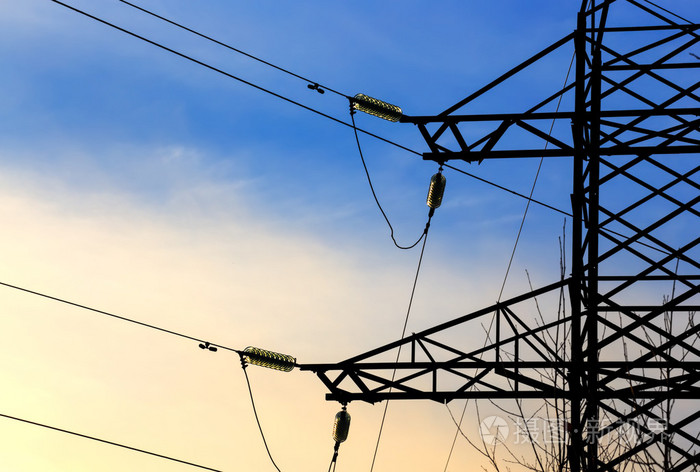insulator: (351, 89, 403, 123), (243, 345, 292, 374), (424, 171, 447, 209), (329, 410, 352, 445)
